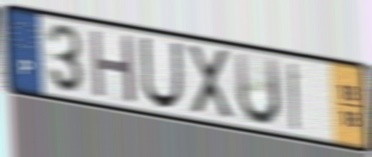3: (47, 24, 85, 96)
H: (88, 26, 139, 106)
I: (286, 60, 301, 134)
U: (232, 49, 283, 129), (139, 35, 185, 111)
X: (184, 42, 237, 122)
